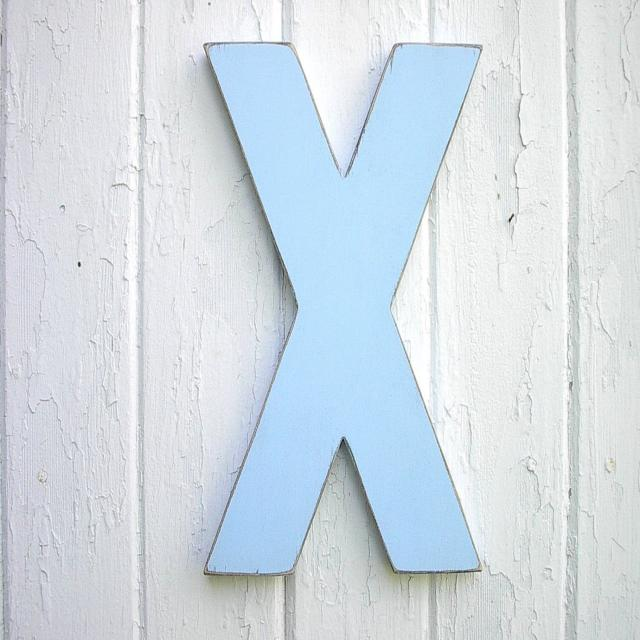X: (153, 8, 540, 610)
